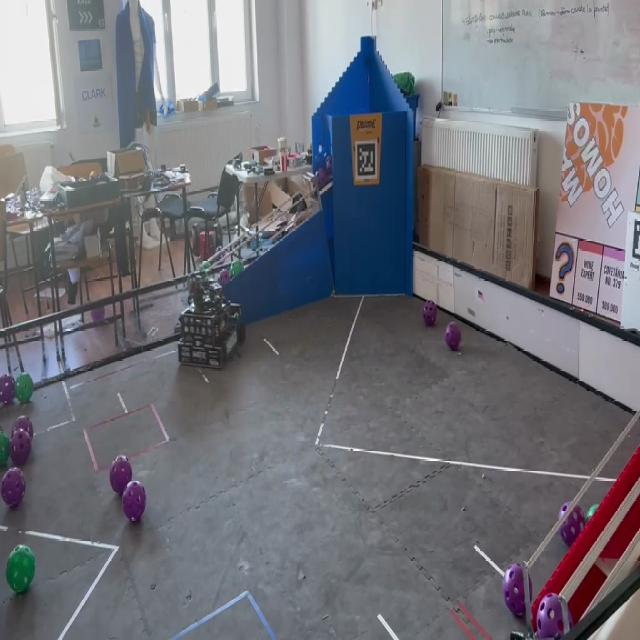artifact_green: (6, 546, 35, 593), (15, 374, 33, 403), (0, 432, 9, 466), (586, 504, 599, 522), (230, 261, 243, 278), (199, 261, 210, 272)
artifact_purple: (537, 594, 573, 638), (503, 564, 525, 617), (559, 503, 585, 546), (122, 481, 146, 522), (0, 468, 25, 507), (110, 456, 132, 495), (10, 429, 31, 466), (12, 416, 33, 438), (0, 375, 14, 405), (446, 323, 461, 351), (423, 300, 436, 326), (315, 168, 328, 190), (91, 307, 105, 323), (219, 269, 231, 285), (325, 155, 333, 177)
